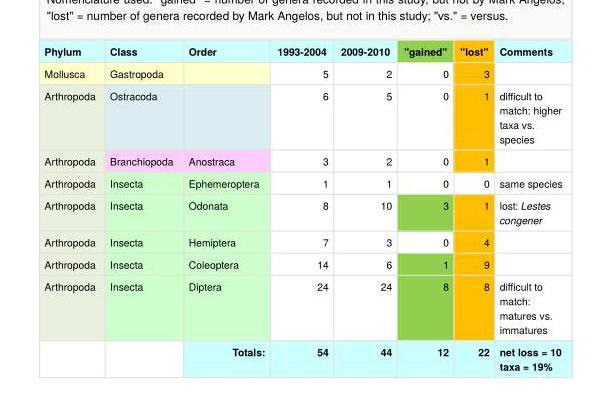table: (43, 43, 561, 373)
table column: (180, 43, 270, 373), (101, 43, 180, 373), (493, 43, 561, 373), (333, 43, 397, 373), (270, 43, 333, 373), (43, 43, 101, 373), (397, 43, 453, 373), (453, 43, 493, 373)
table row: (43, 83, 561, 149), (43, 274, 561, 339), (43, 193, 561, 230), (43, 339, 561, 373), (43, 61, 561, 83), (43, 149, 561, 171), (43, 171, 561, 193), (43, 230, 561, 252), (43, 252, 561, 274), (43, 43, 561, 61)
table spanning cell: (43, 274, 101, 373)
